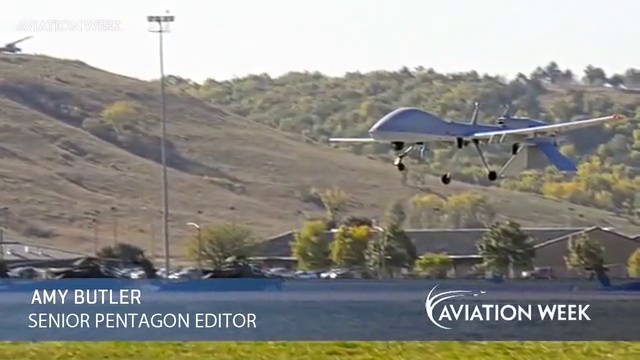military drone: (329, 101, 628, 184)
